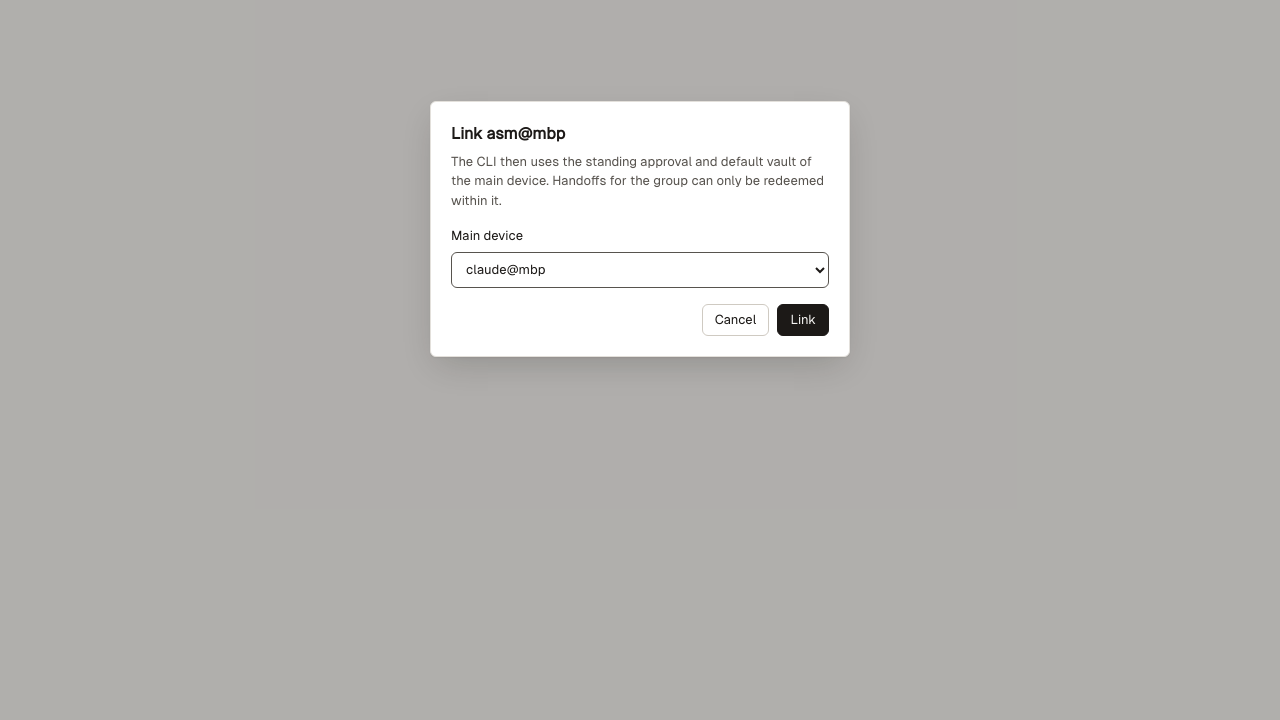
Test: LinkDeviceDialog › preselects the only main device, explains the effect and links on save
expect the dialog "Link asm@mbp" shows "standing approval and default vault of the main device": met, box [451, 154, 824, 208]
expect the dropdown labelled "Main device" shows "claude@mbp": met, box [451, 252, 829, 288]
Click the button "Link": (803, 320) [778, 304, 829, 336]
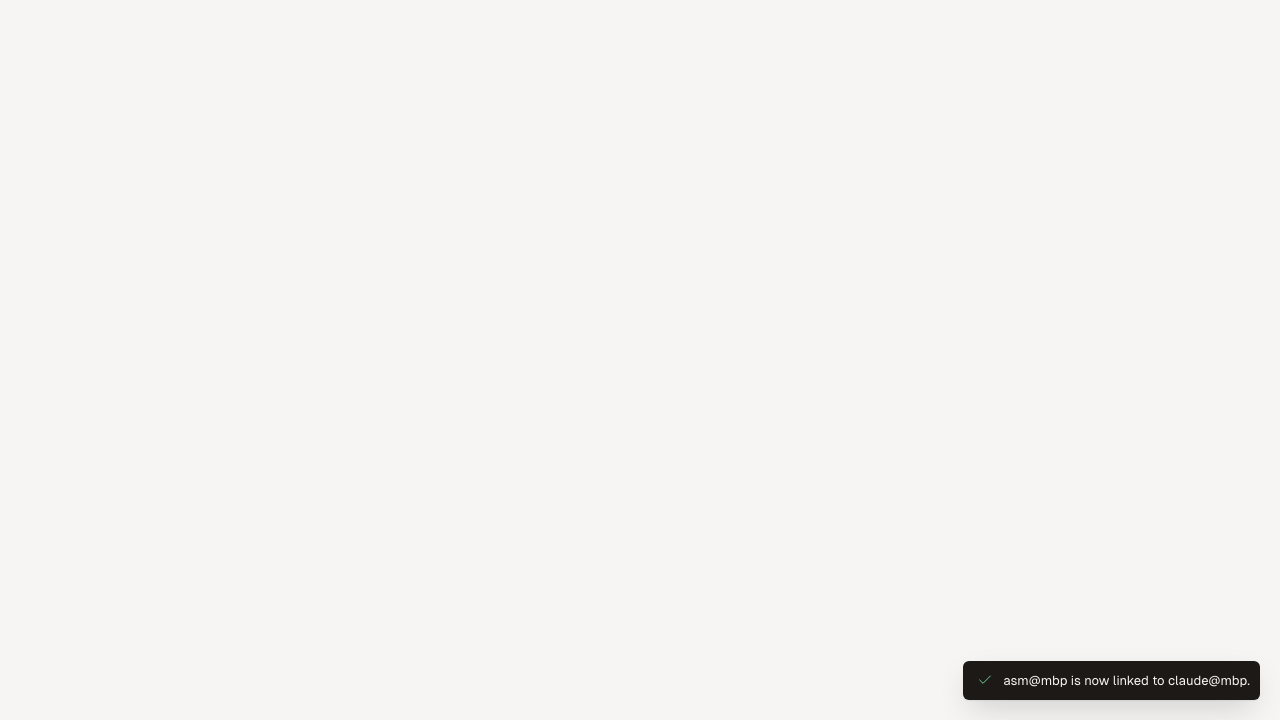
expect the text "asm@mbp is now linked to claude@mbp." is shown: met, box [1003, 670, 1250, 690]
expect the dialog is gone: met
